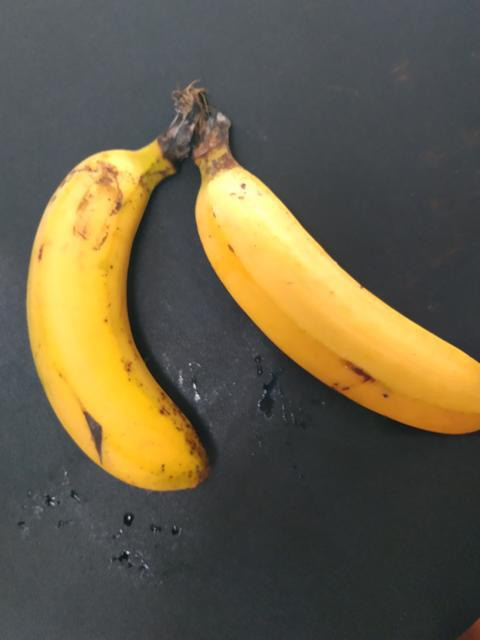freshripe: (194, 138, 479, 451)
ripe: (13, 151, 257, 542)
